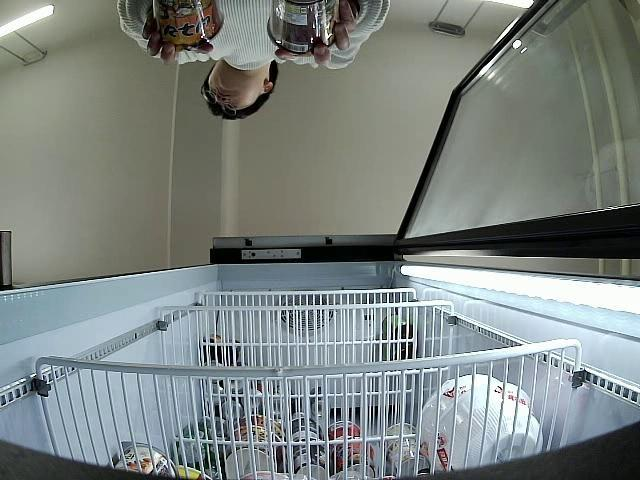06_nuguri_S: (268, 0, 342, 53), (153, 0, 224, 48)
